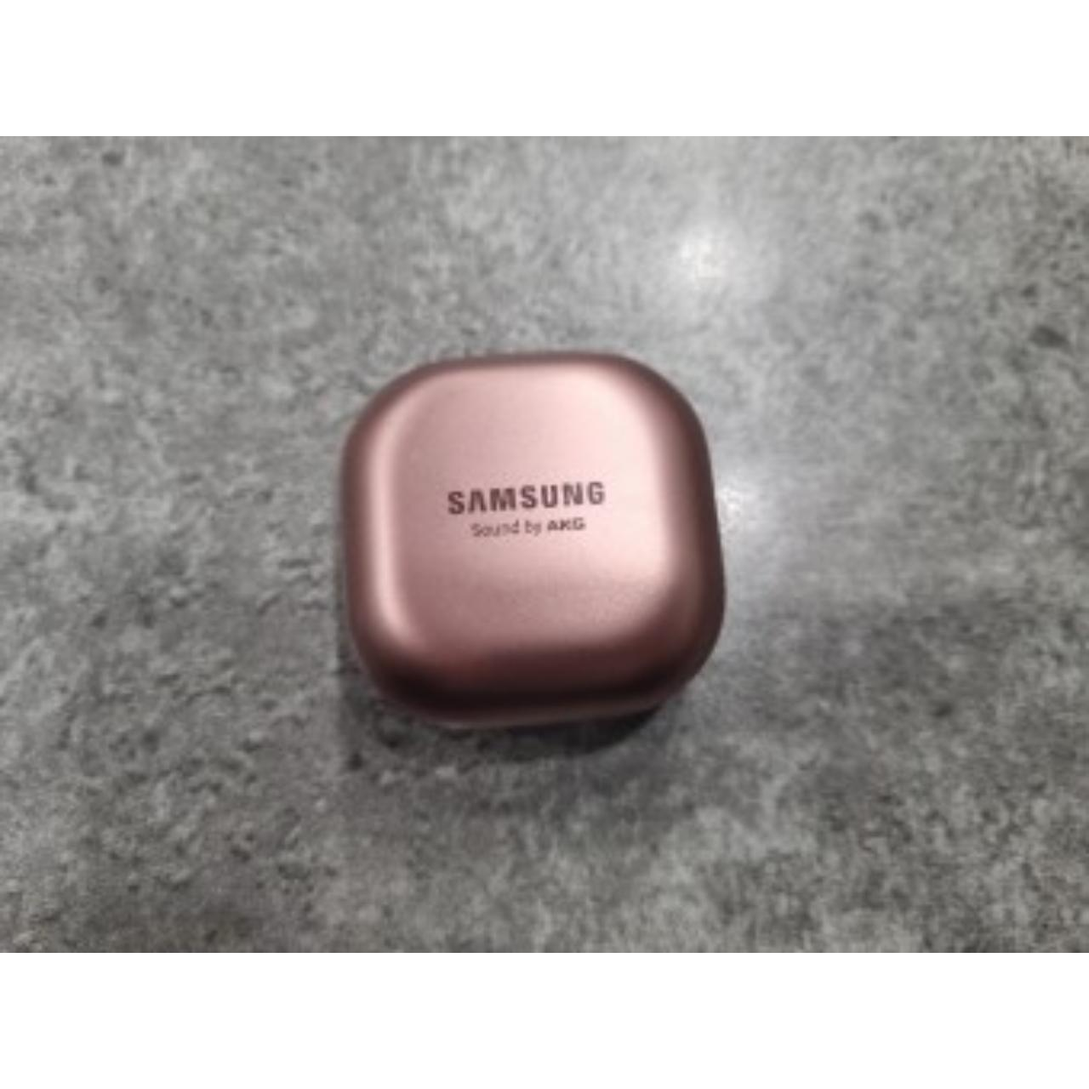Buds: (336, 348, 731, 737)
